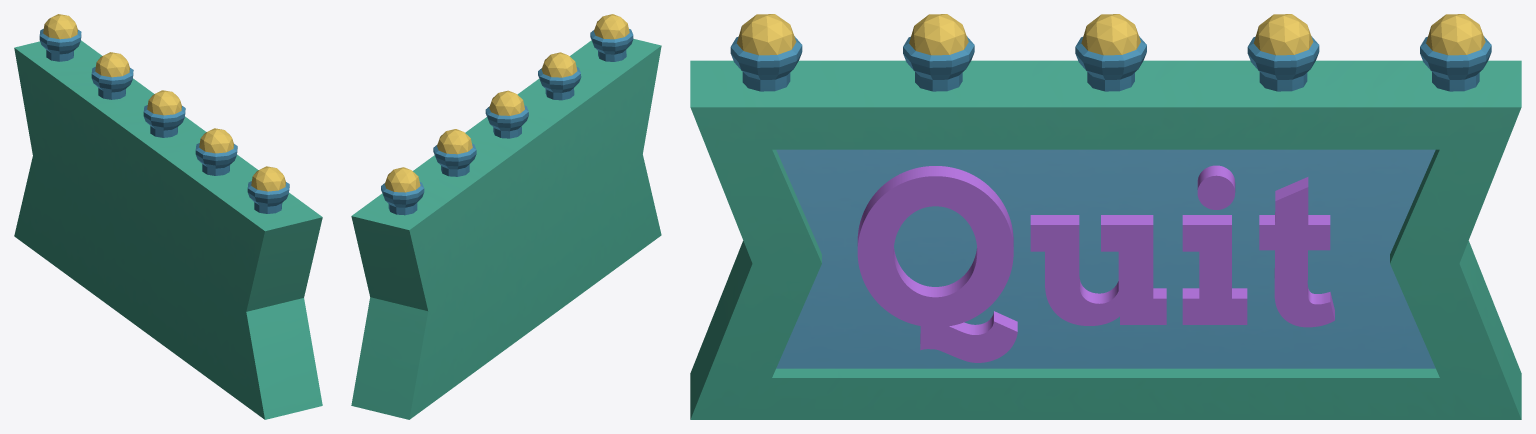
The model's file is quit.fbx.
3 views of the same model, side by side, from view 1: azimuth 30°, elevation 25°; view 2: azimuth 150°, elevation 25°; view 3: azimuth 270°, elevation 25° (orthographic). The views are drawn at different scales.
Parts seen in each view (by area): view 1: Quit_button.006, Lightbulb, Lightbulb.001, Lightbulb.002, Lightbulb.003, Lightbulb.004; view 2: Quit_button.006, Lightbulb.004, Lightbulb.001, Lightbulb.002, Lightbulb, Lightbulb.003; view 3: Quit_button.006, Lightbulb.003, Lightbulb, Lightbulb.004, Lightbulb.001, Lightbulb.002.
Boxes of the visible parts, box(x1,y1,x2,y2) form: Quit_button.006: box(14, 40, 322, 419); Lightbulb: box(247, 166, 289, 213); Lightbulb.001: box(195, 128, 237, 175); Lightbulb.002: box(143, 90, 185, 137); Lightbulb.003: box(91, 52, 133, 99); Lightbulb.004: box(39, 14, 81, 61); Quit_button.006: box(351, 38, 661, 419); Lightbulb.004: box(381, 167, 424, 215); Lightbulb.001: box(538, 52, 581, 100); Lightbulb.002: box(485, 90, 528, 138); Lightbulb: box(590, 14, 633, 61); Lightbulb.003: box(433, 129, 476, 176); Quit_button.006: box(690, 60, 1521, 419); Lightbulb.003: box(1247, 14, 1319, 91); Lightbulb: box(730, 14, 802, 91); Lightbulb.004: box(1420, 14, 1491, 91); Lightbulb.001: box(903, 14, 974, 91); Lightbulb.002: box(1075, 14, 1146, 91).
Size of the model in its own units: 5.25 by 19.44 by 38.61.
